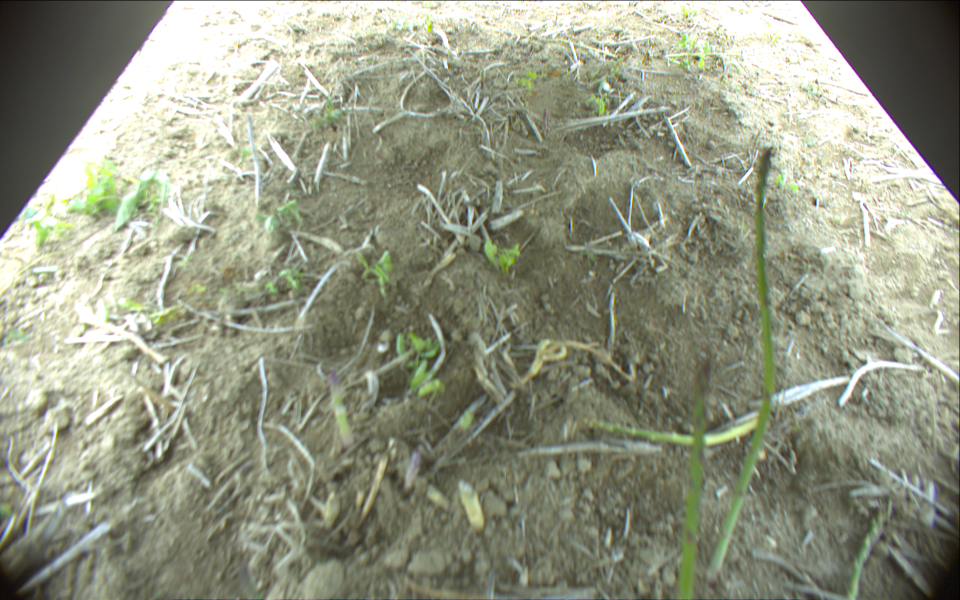aspa: (702, 145, 775, 580), (673, 353, 717, 600), (583, 409, 762, 451), (846, 498, 895, 600)
